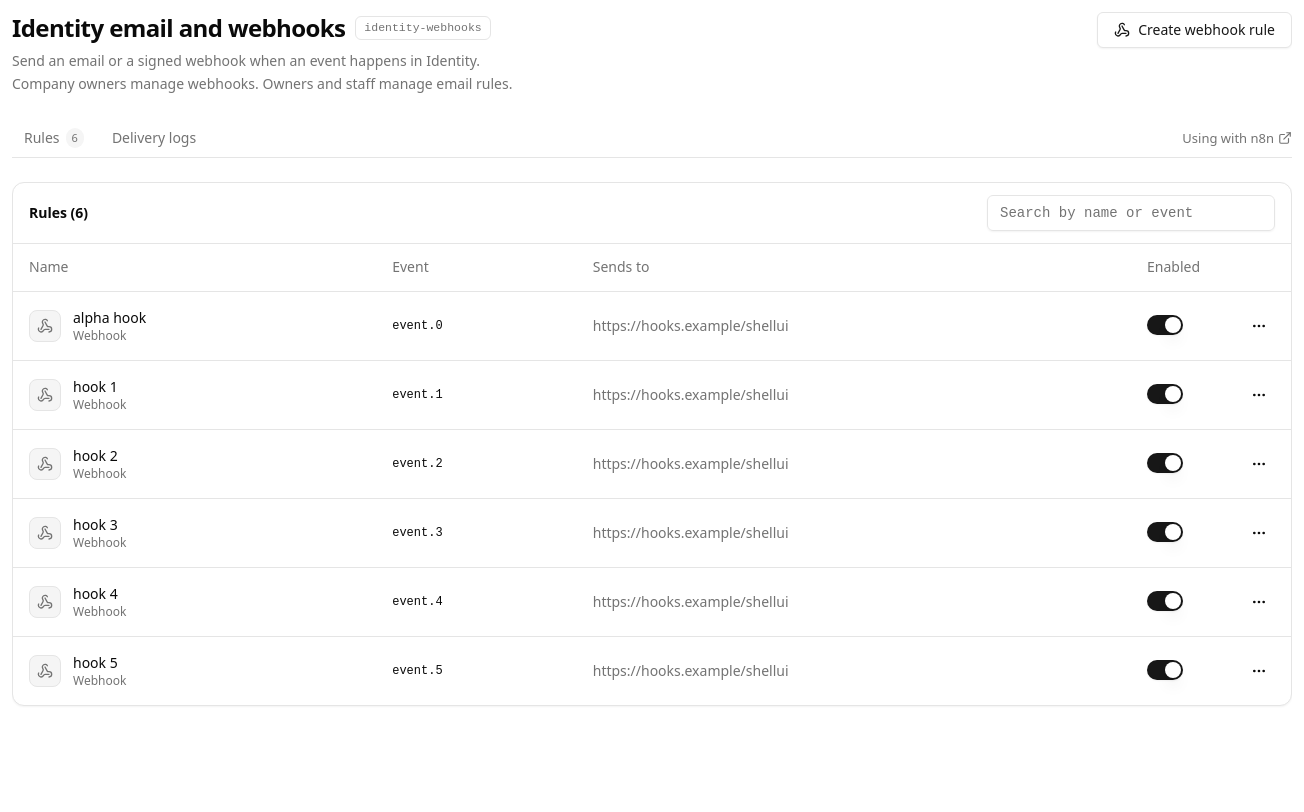
Test case: ActionsRulesListPage action feedback › updates the rule count with the search query
Expected: the heading "Rules (6)" is shown, [29,202,88,222]
In the search field named "Search rules": (1131, 212) [987,194,1275,230], type "alpha"
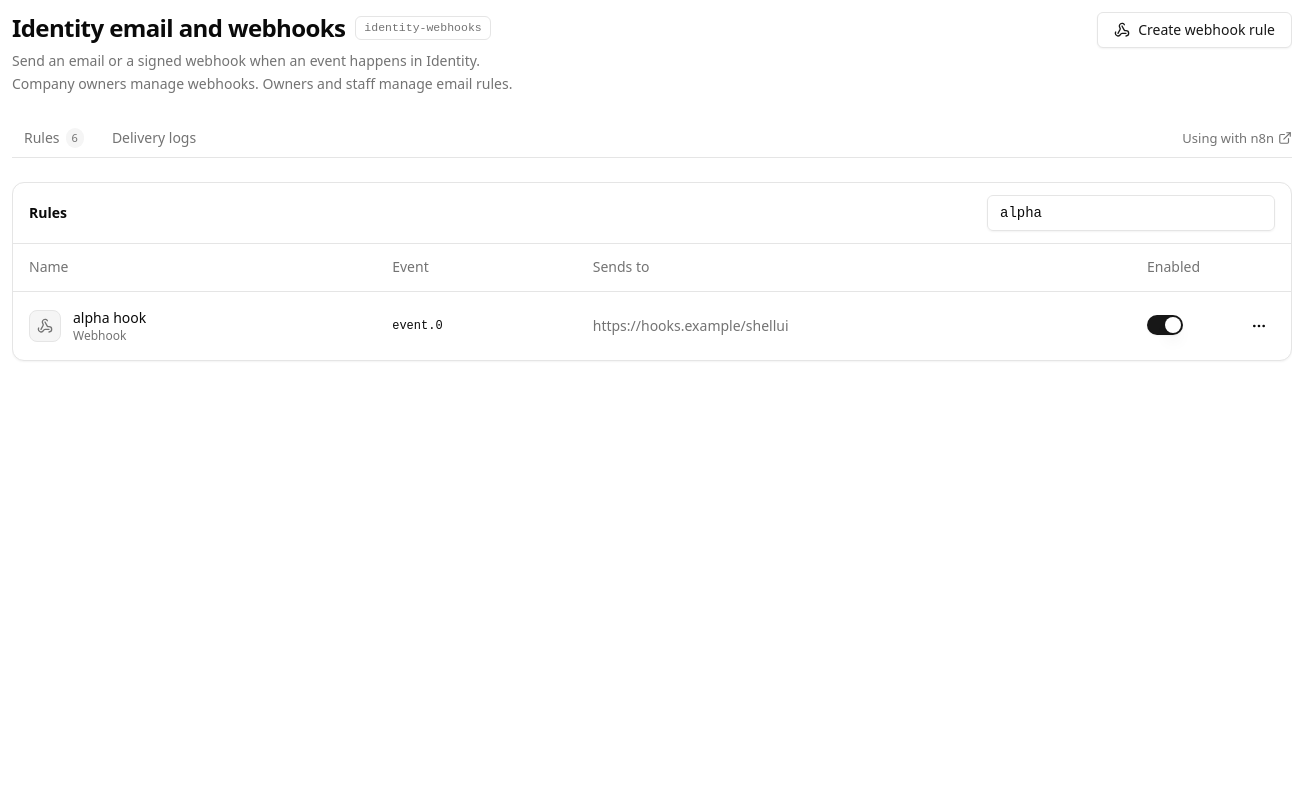
Expected: the heading "Rules" is shown, [29,202,67,222]
Expected: the text "event.1" is gone
